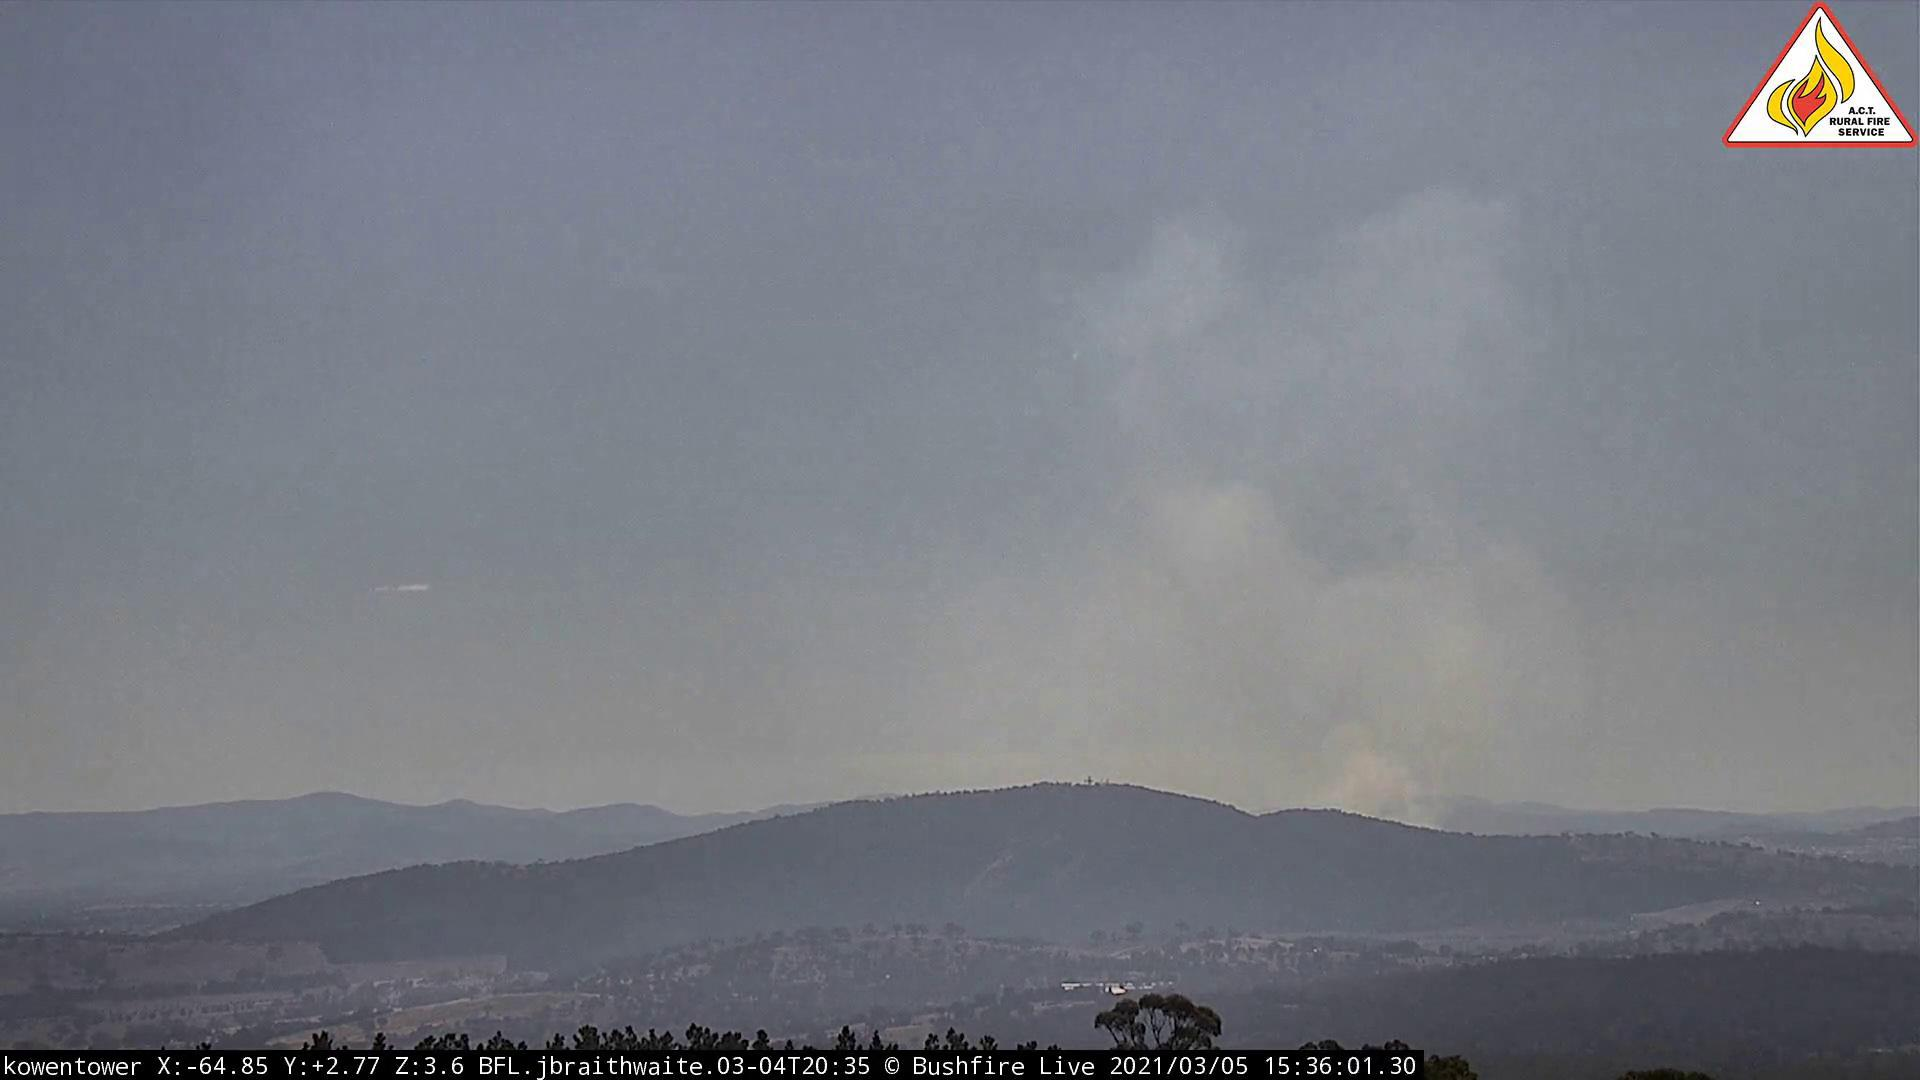Smoke: (938, 179, 1594, 864)
